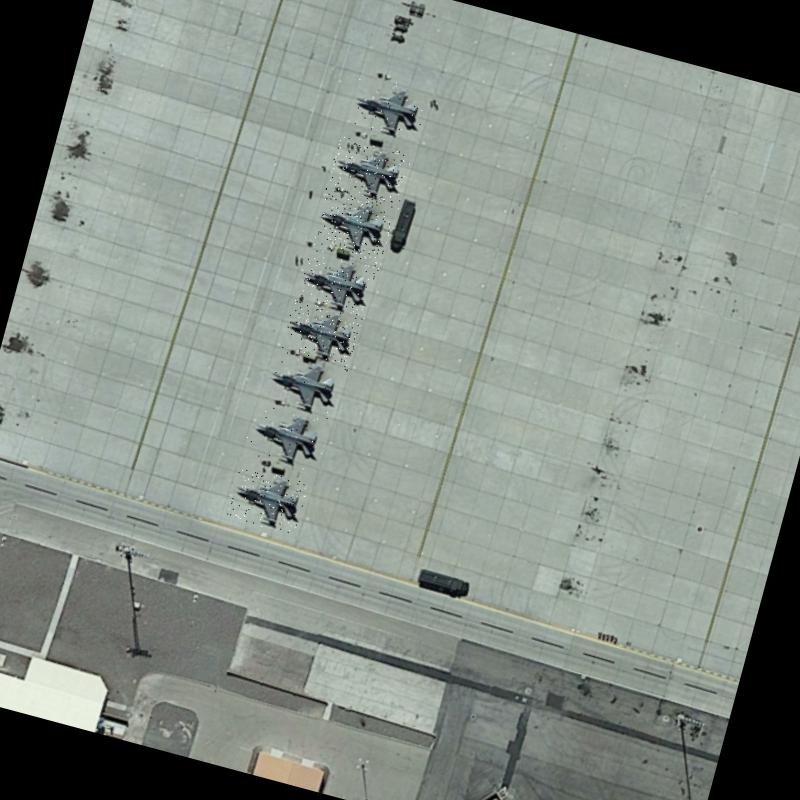A5: (242, 398, 331, 474), (344, 69, 430, 146), (325, 135, 413, 209), (312, 187, 396, 264), (279, 296, 363, 372), (296, 248, 379, 320), (226, 464, 308, 536), (263, 348, 343, 419)
